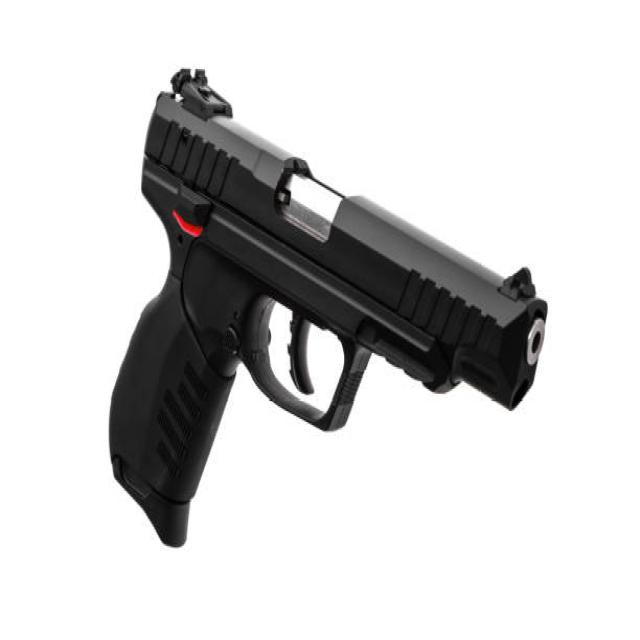pistol: (101, 59, 569, 558)
